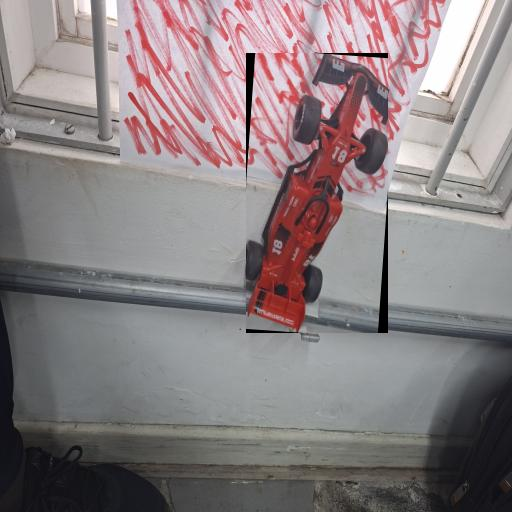carro: (245, 54, 387, 332)
